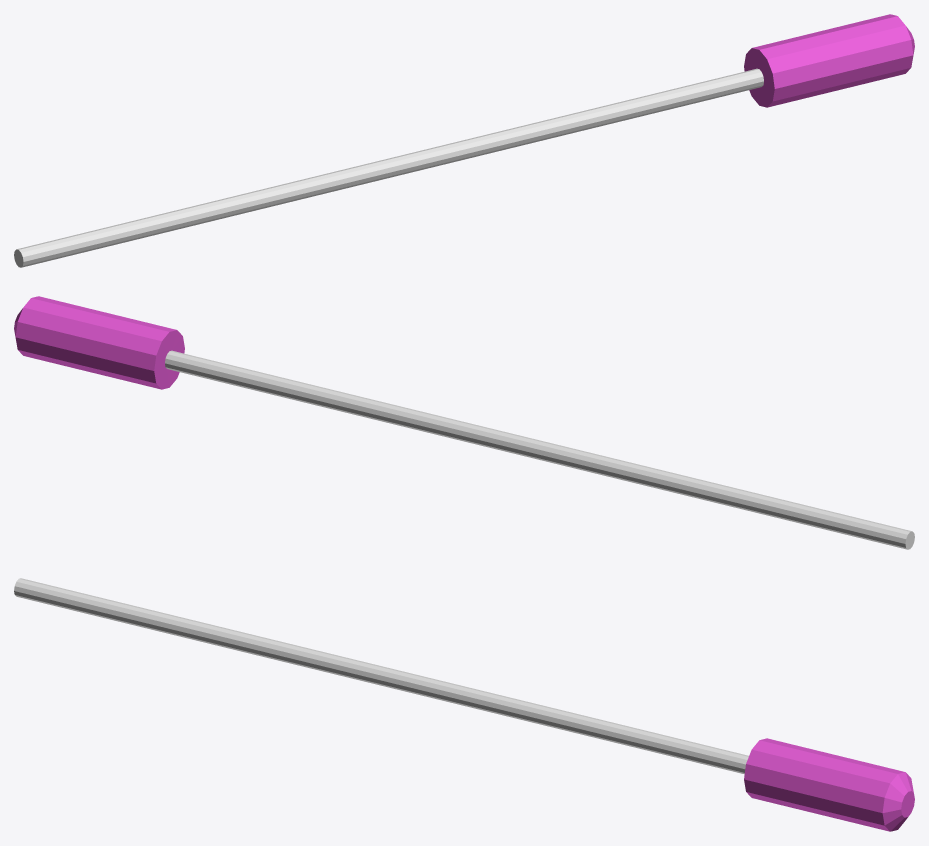
Rendered from Rack gun2.fbx.
3 views of the same model, one above another, from view 1: azimuth 30°, elevation 25°; view 2: azimuth 150°, elevation 25°; view 3: azimuth 330°, elevation 25° (orthographic).
Visible parts, largest first — view 1: Цилиндр.005; view 2: Цилиндр.005; view 3: Цилиндр.005.
Boxes of the visible parts, bbox=[...] form: Цилиндр.005: bbox=[14, 14, 914, 267]; Цилиндр.005: bbox=[14, 296, 914, 549]; Цилиндр.005: bbox=[14, 578, 914, 831].
Bounding box in the file's own units: 455 × 27.34 × 27.34.
